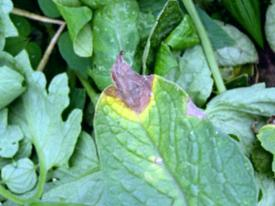Tomato Early blight leaf: (41, 16, 258, 206)
